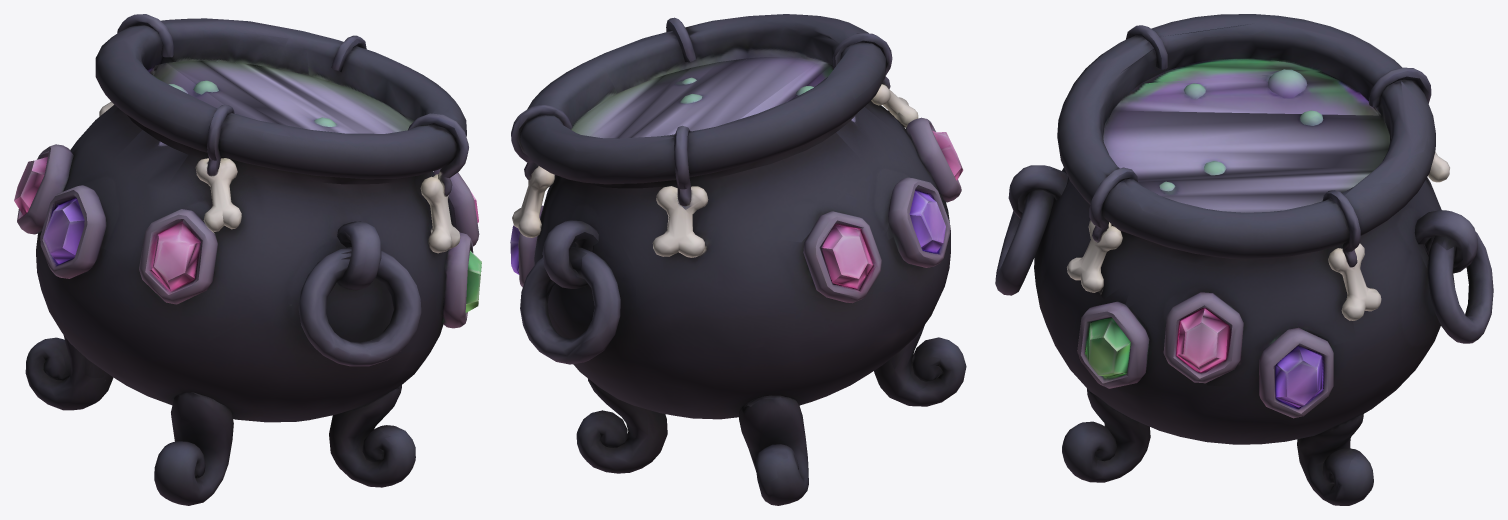
Rendered from S3_Cauldron_LOD1.fbx.
3 views of the same model, side by side, from view 1: azimuth 30°, elevation 25°; view 2: azimuth 150°, elevation 25°; view 3: azimuth 270°, elevation 25° (orthographic).
Visible parts, largest first — view 1: S3_Cauldron_LOD1; view 2: S3_Cauldron_LOD1; view 3: S3_Cauldron_LOD1.
Part boxes in pixels (bbox=[...]): S3_Cauldron_LOD1: bbox=[14, 14, 481, 505]; S3_Cauldron_LOD1: bbox=[510, 14, 966, 505]; S3_Cauldron_LOD1: bbox=[995, 14, 1493, 505].
Bounding box in the file's own units: 0.1769 × 0.1698 × 0.1908.
Materials: 1 (1 with a texture image).
